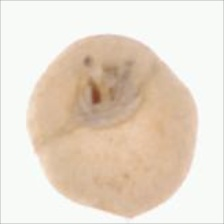L3: (76, 58, 141, 121)
L4: (26, 35, 200, 217)
